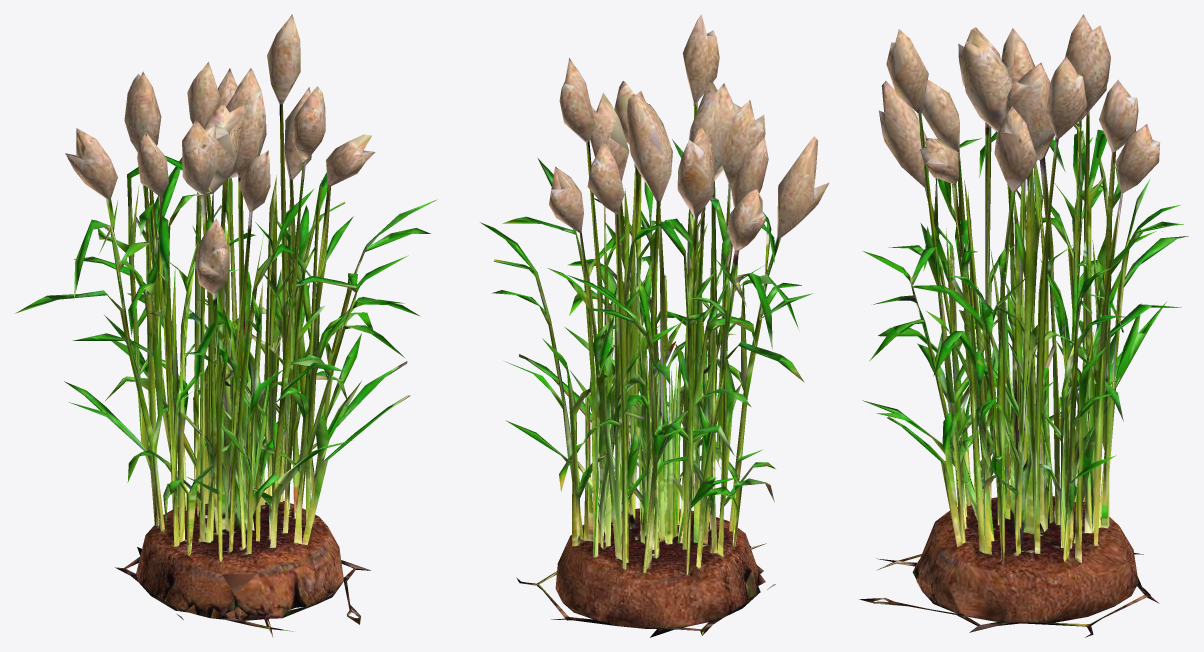
The model's file is reeds.glb.
3 renders of one model, left to right at view 1: azimuth 30°, elevation 25°; view 2: azimuth 150°, elevation 25°; view 3: azimuth 270°, elevation 25°, orthographic. The views are drawn at different scales.
Parts seen in each view (by area): view 1: reeds; view 2: reeds; view 3: reeds.
Boxes of the visible parts, x1,y1,x2,y2 form: reeds: (15, 14, 437, 636); reeds: (480, 14, 829, 637); reeds: (859, 14, 1188, 637).
Bounding box in the file's own units: 0.7246 × 1 × 0.5363.
1 material, 1 textured.
